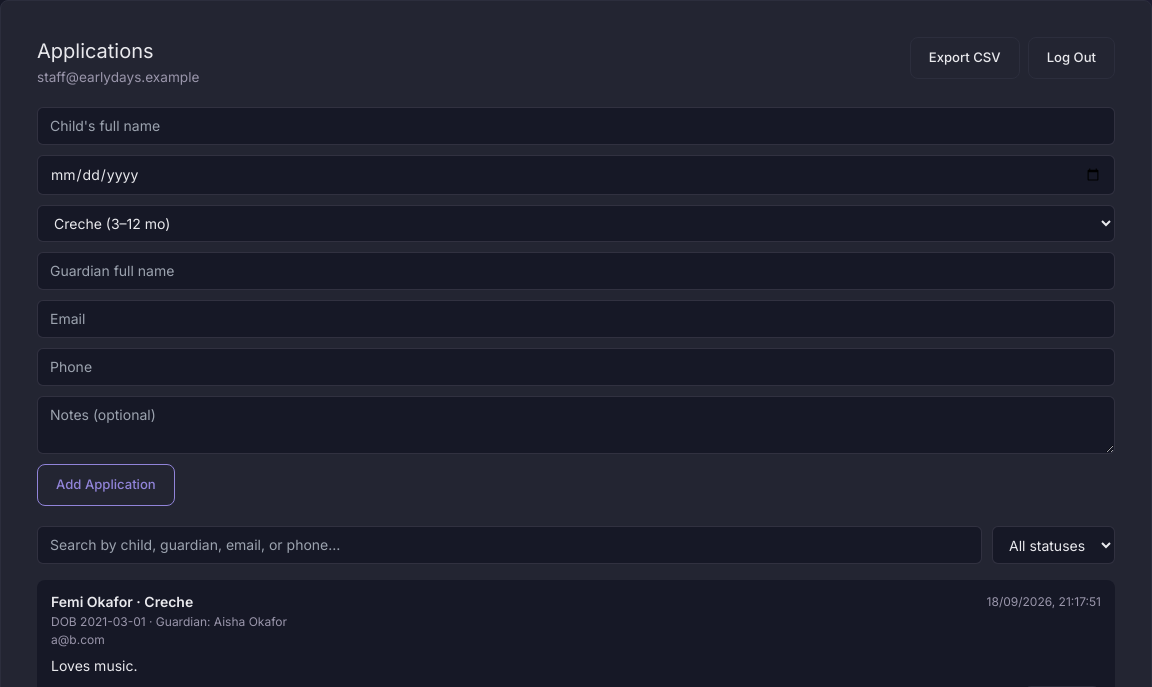
Scenario: AdminApplicationsList › adds an application submitted through the create form
Expected: the text "Femi Okafor · Creche" is shown, [51,592,193,612]
Type "New Kid" into the field with placeholder "Child's full name". click: (576, 126)
box: [37,107,1115,145]
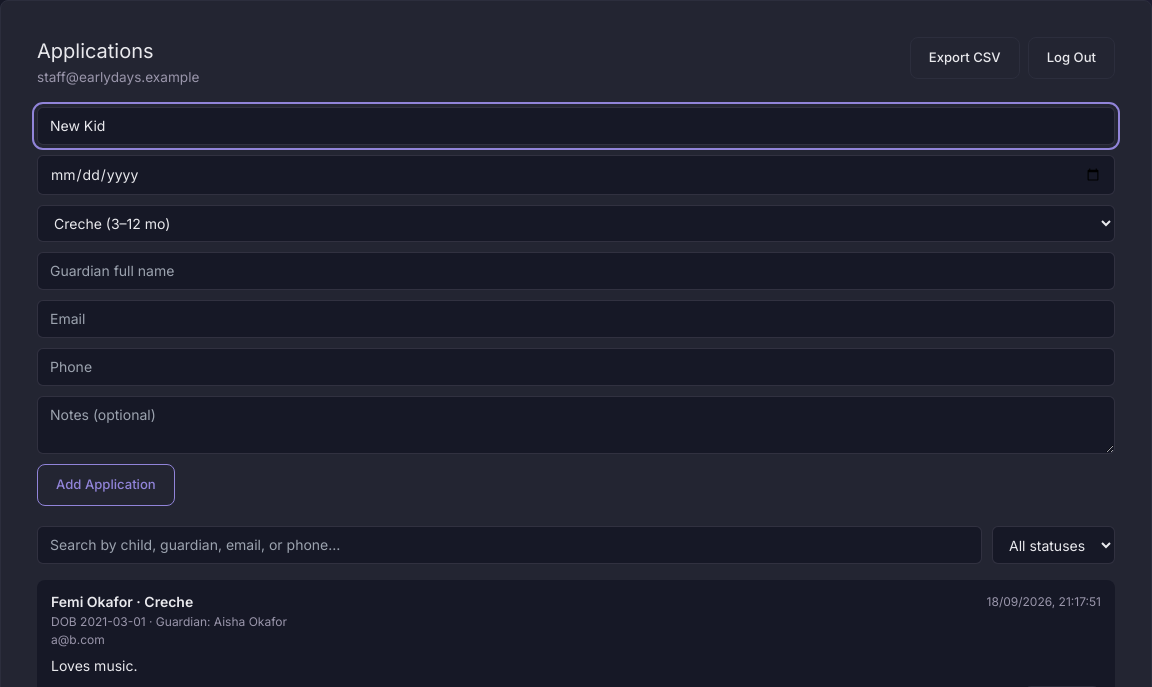
Type "2022-01-01" into the date field named "Child's date of birth". click: (576, 175)
box: [37,155,1115,195]
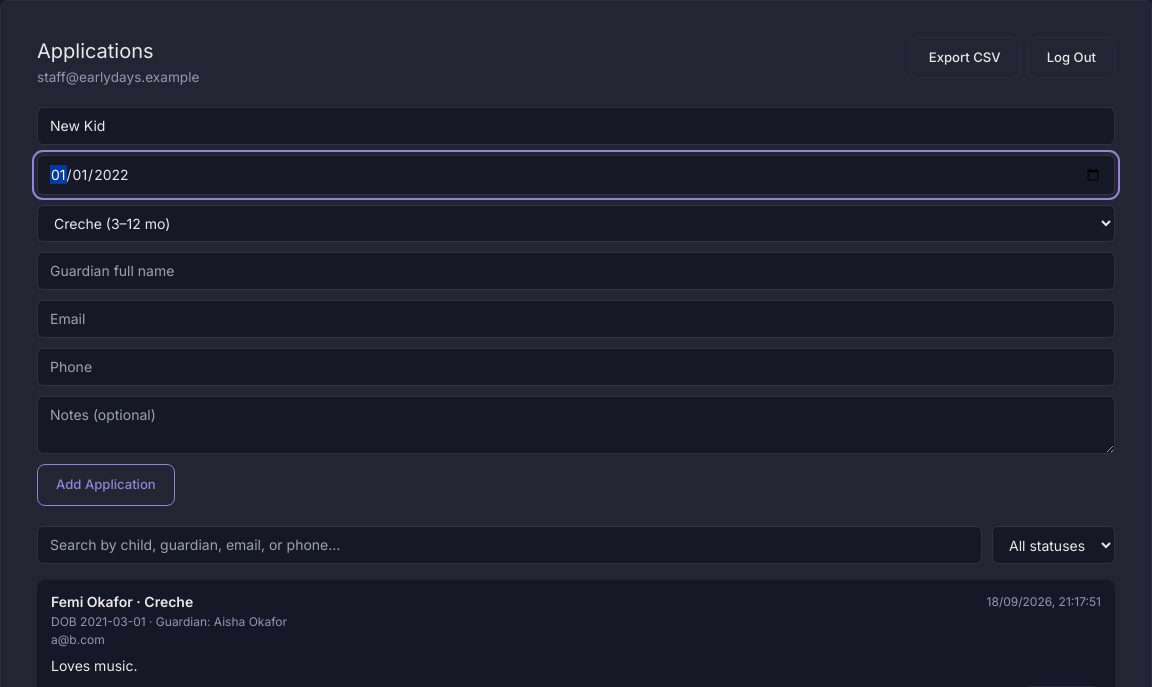
Type "New Guardian" into the field with placeholder "Guardian full name". click: (576, 271)
box: [37,252,1115,290]
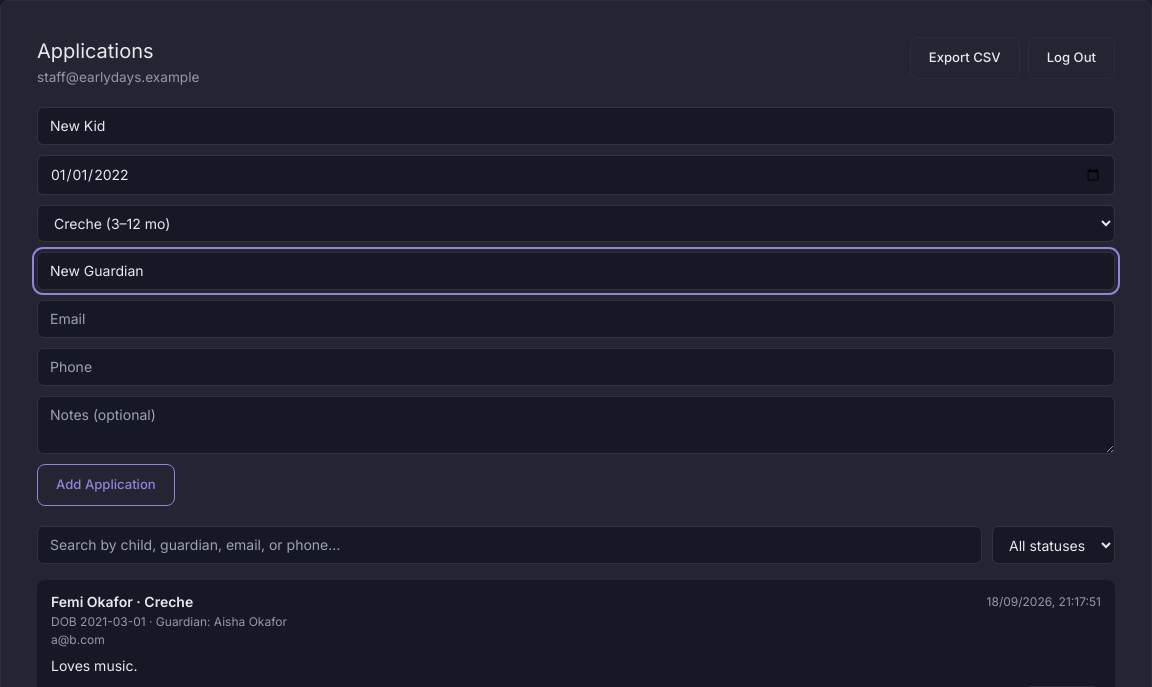
Type "new@example.com" into the field with placeholder "Email". click: (576, 319)
box: [37,300,1115,338]
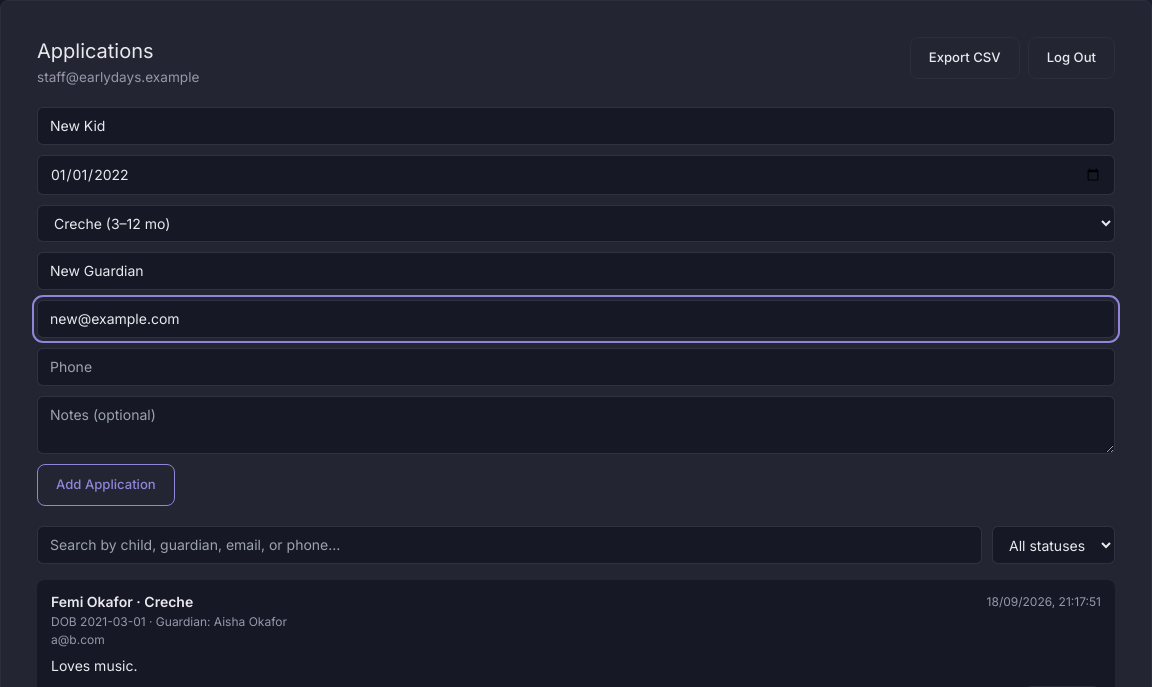
Click the button "Add Application". click: (106, 485)
box: [37,464,175,506]
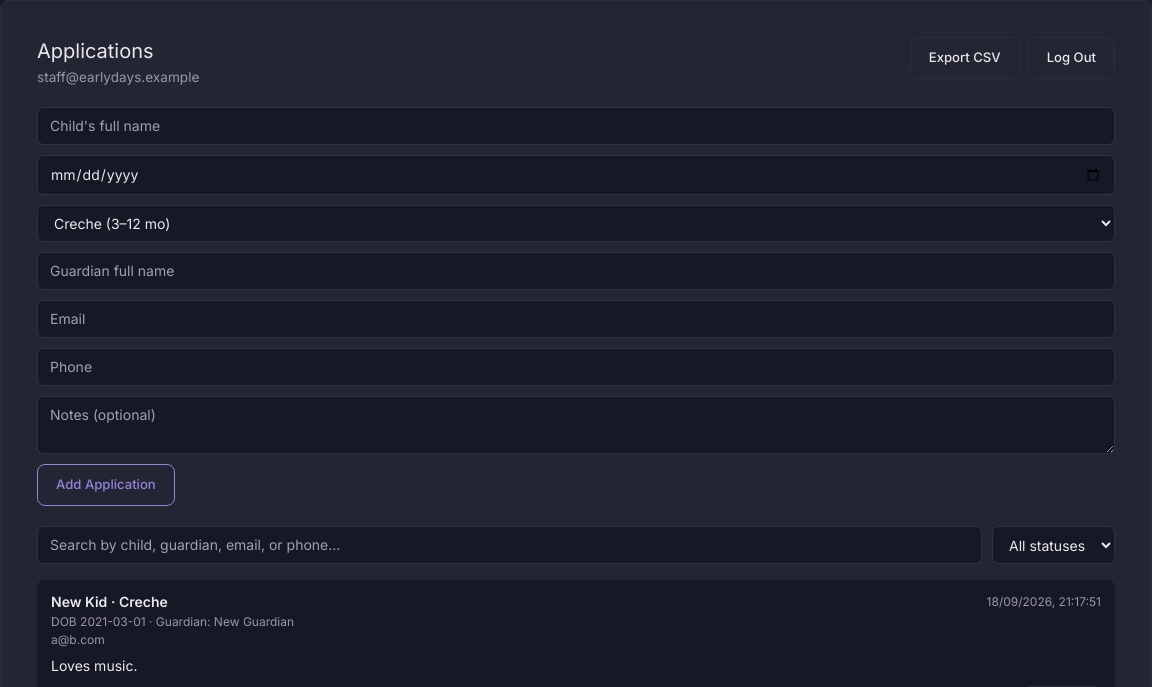
Expected: the text "New Kid · Creche" is shown, [51,592,168,612]
